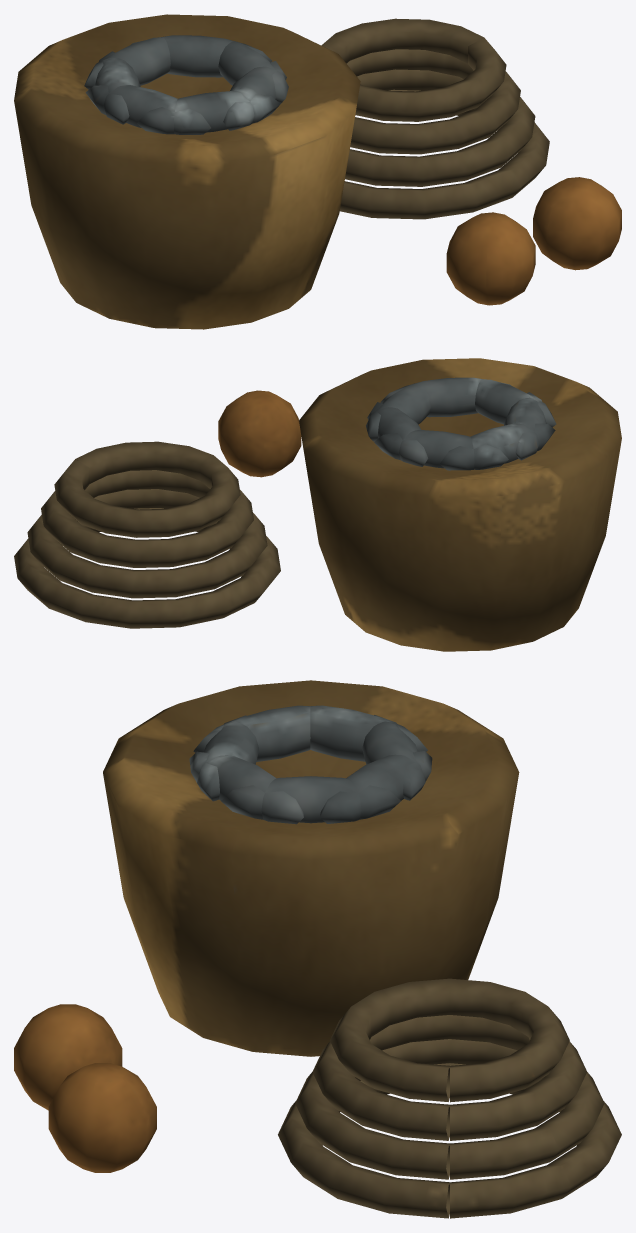
Rendered from catch_basket.obj.
3 renders of one model, top to bottom at view 1: azimuth 30°, elevation 25°; view 2: azimuth 150°, elevation 25°; view 3: azimuth 270°, elevation 25°, orthographic. The views are drawn at different scales.
Visible parts, largest first — view 1: part0, part2, part1, part3; view 2: part0, part2, part1, part3; view 3: part0, part2, part1, part3.
Boxes of the visible parts, left/top/right/bottom form: part0: left=14, top=14, right=360, bottom=329; part2: left=321, top=18, right=549, bottom=219; part1: left=84, top=35, right=288, bottom=134; part3: left=446, top=177, right=621, bottom=305; part0: left=299, top=358, right=621, bottom=651; part2: left=14, top=441, right=280, bottom=628; part1: left=366, top=377, right=556, bottom=470; part3: left=218, top=390, right=301, bottom=477; part0: left=103, top=680, right=519, bottom=1056; part2: left=278, top=978, right=621, bottom=1218; part1: left=189, top=705, right=432, bottom=824; part3: left=14, top=1004, right=156, bottom=1172.
Bounding box in the file's own units: 1.1 × 0.395 × 0.876.
